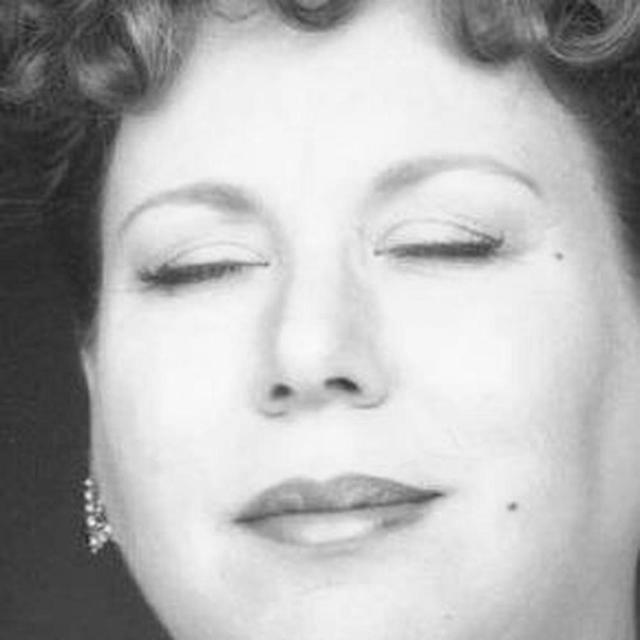real: (95, 71, 640, 640), (114, 204, 538, 292)
